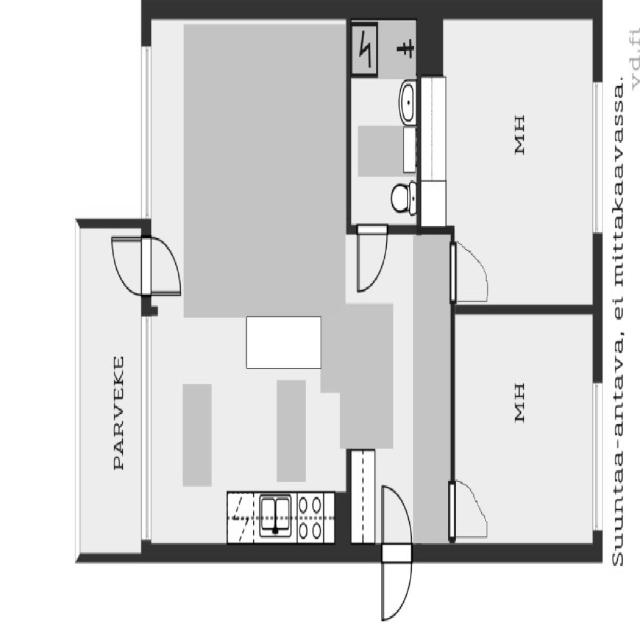door: (443, 474, 493, 549), (446, 232, 488, 315), (373, 548, 416, 623), (145, 227, 185, 306), (99, 230, 146, 297), (378, 474, 414, 556), (354, 223, 389, 296)
window: (591, 65, 610, 251), (137, 313, 150, 546), (589, 365, 606, 533), (138, 42, 150, 221)
zone: (146, 19, 342, 546), (428, 21, 602, 310), (446, 309, 596, 554), (347, 13, 423, 228)
